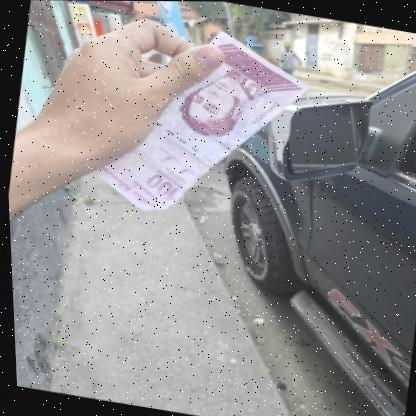one_hundred-front-vef: (78, 11, 321, 237)
